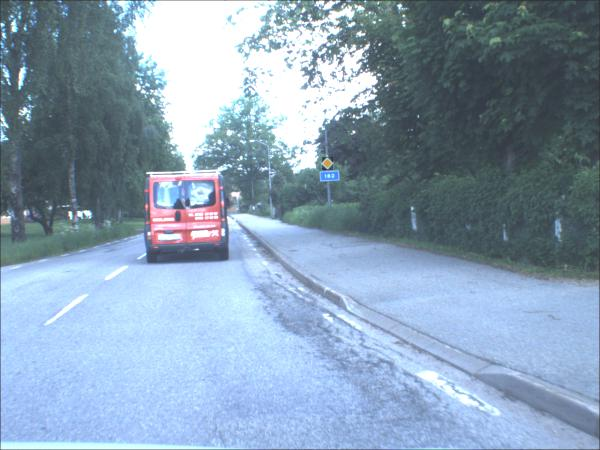PRIORITY_ROAD: (323, 158, 335, 172)
